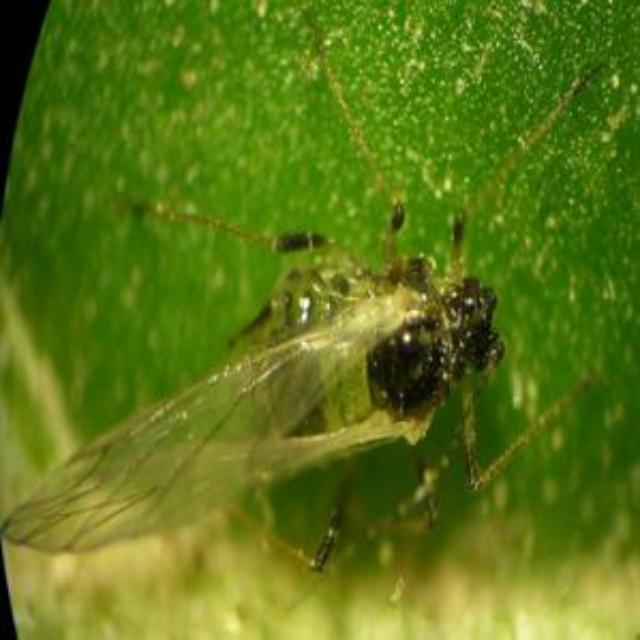Green peach aphid: (2, 36, 640, 640)
